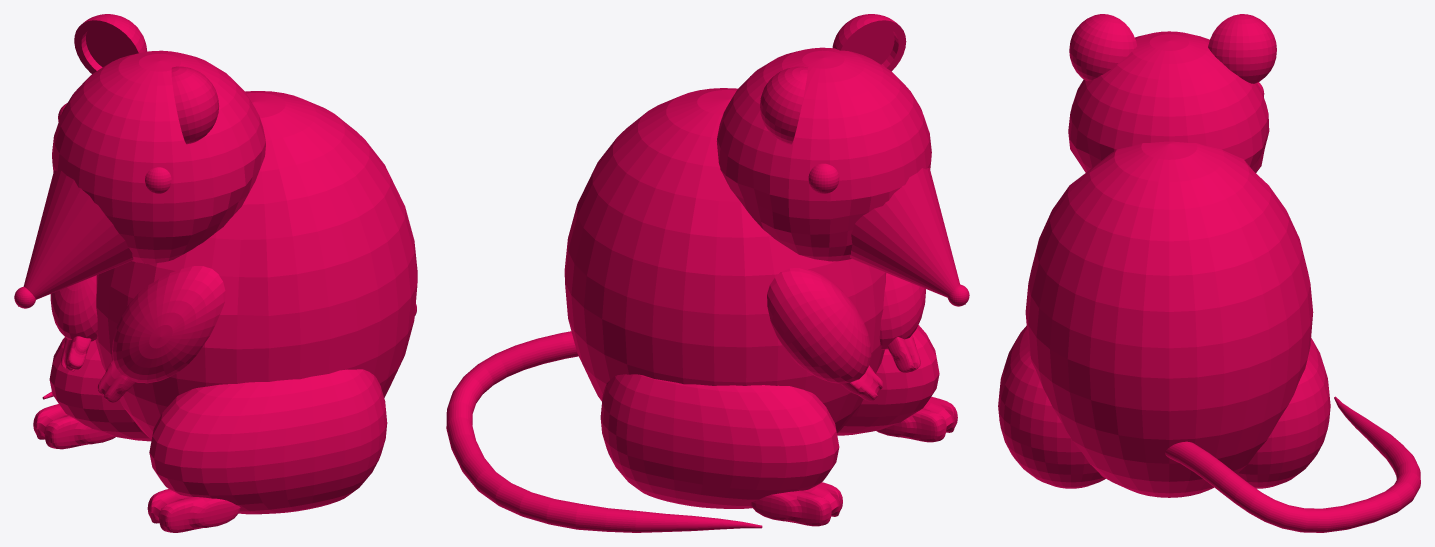
File: rat - joined crystal.fbx
3 views of the same model, side by side, from view 1: azimuth 30°, elevation 25°; view 2: azimuth 150°, elevation 25°; view 3: azimuth 270°, elevation 25° (orthographic). The views are drawn at different scales.
Parts seen in each view (by area): view 1: rat crystal; view 2: rat crystal; view 3: rat crystal.
Part boxes in pixels (left/top/right/bottom): rat crystal: left=14, top=14, right=417, bottom=532; rat crystal: left=446, top=14, right=969, bottom=532; rat crystal: left=998, top=14, right=1420, bottom=532.
Size of the model in its own units: 338 by 322 by 294.
